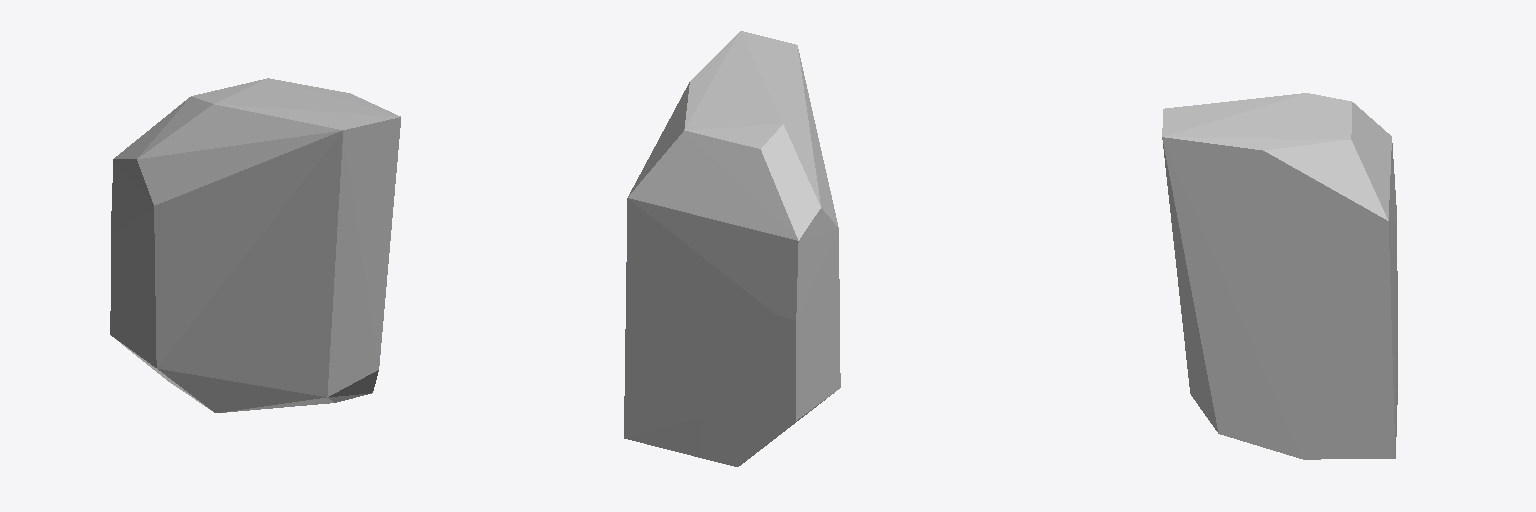
The model's file is dish_drainer_collision_9.obj.
3 renders of one model, left to right at view 1: azimuth 30°, elevation 25°; view 2: azimuth 150°, elevation 25°; view 3: azimuth 270°, elevation 25°, orthographic.
Size of the model in its own units: 0.0504 by 0.0894 by 0.0592.